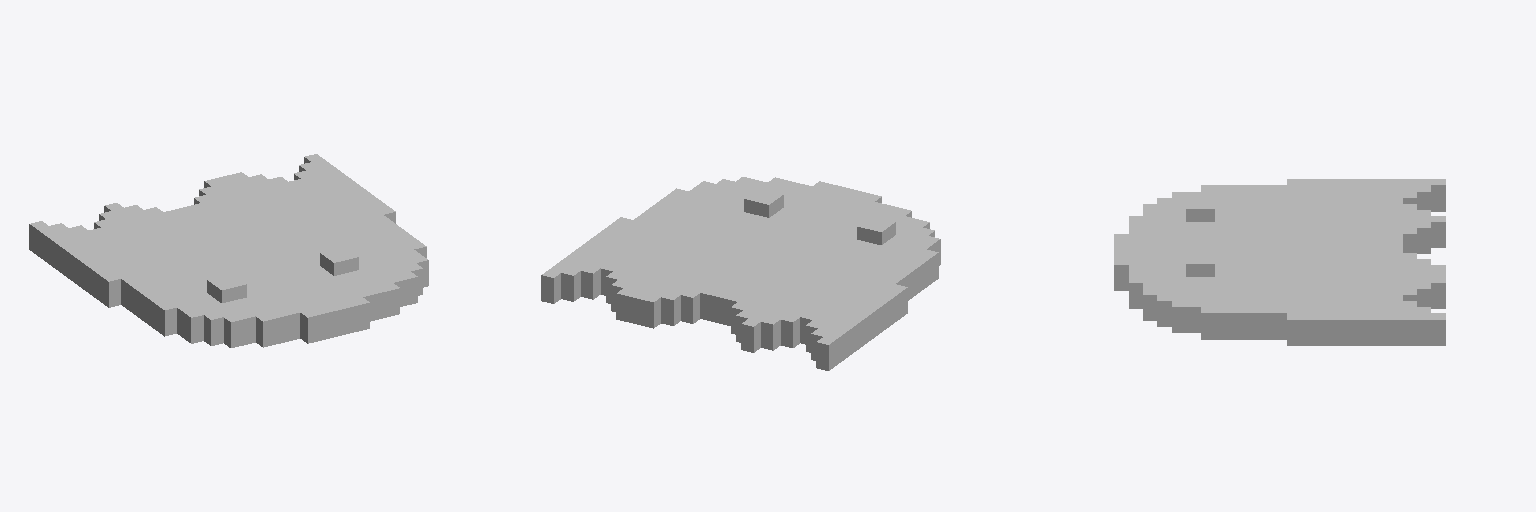
Rendered from Ghost Right.obj.
The picture shows the model from 3 angles: view 1: azimuth 30°, elevation 25°; view 2: azimuth 150°, elevation 25°; view 3: azimuth 270°, elevation 25°; orthographic projection.
Bounding box in the file's own units: 23 × 3 × 23.